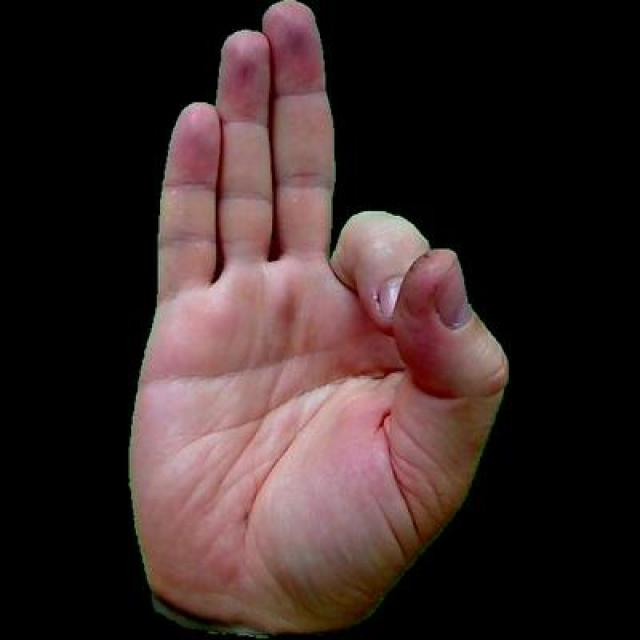f: (122, 0, 510, 637)
